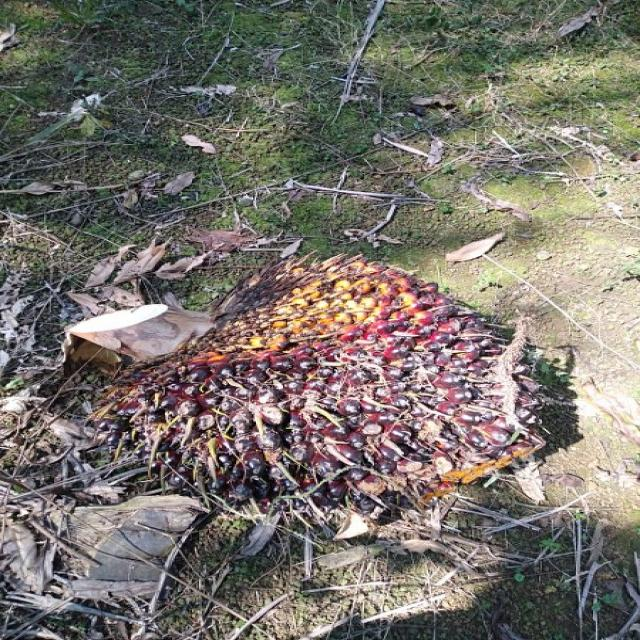fraksi 1: (85, 248, 558, 511)
